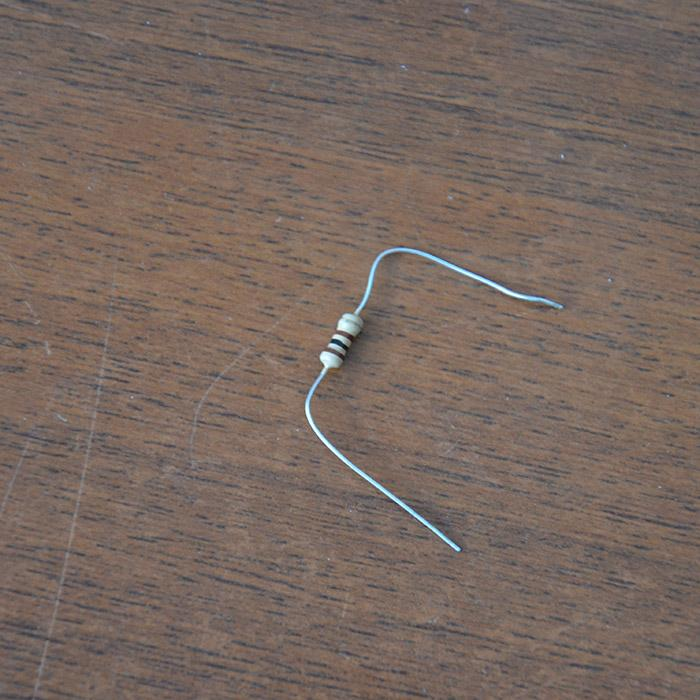resistor: (319, 310, 364, 369)
